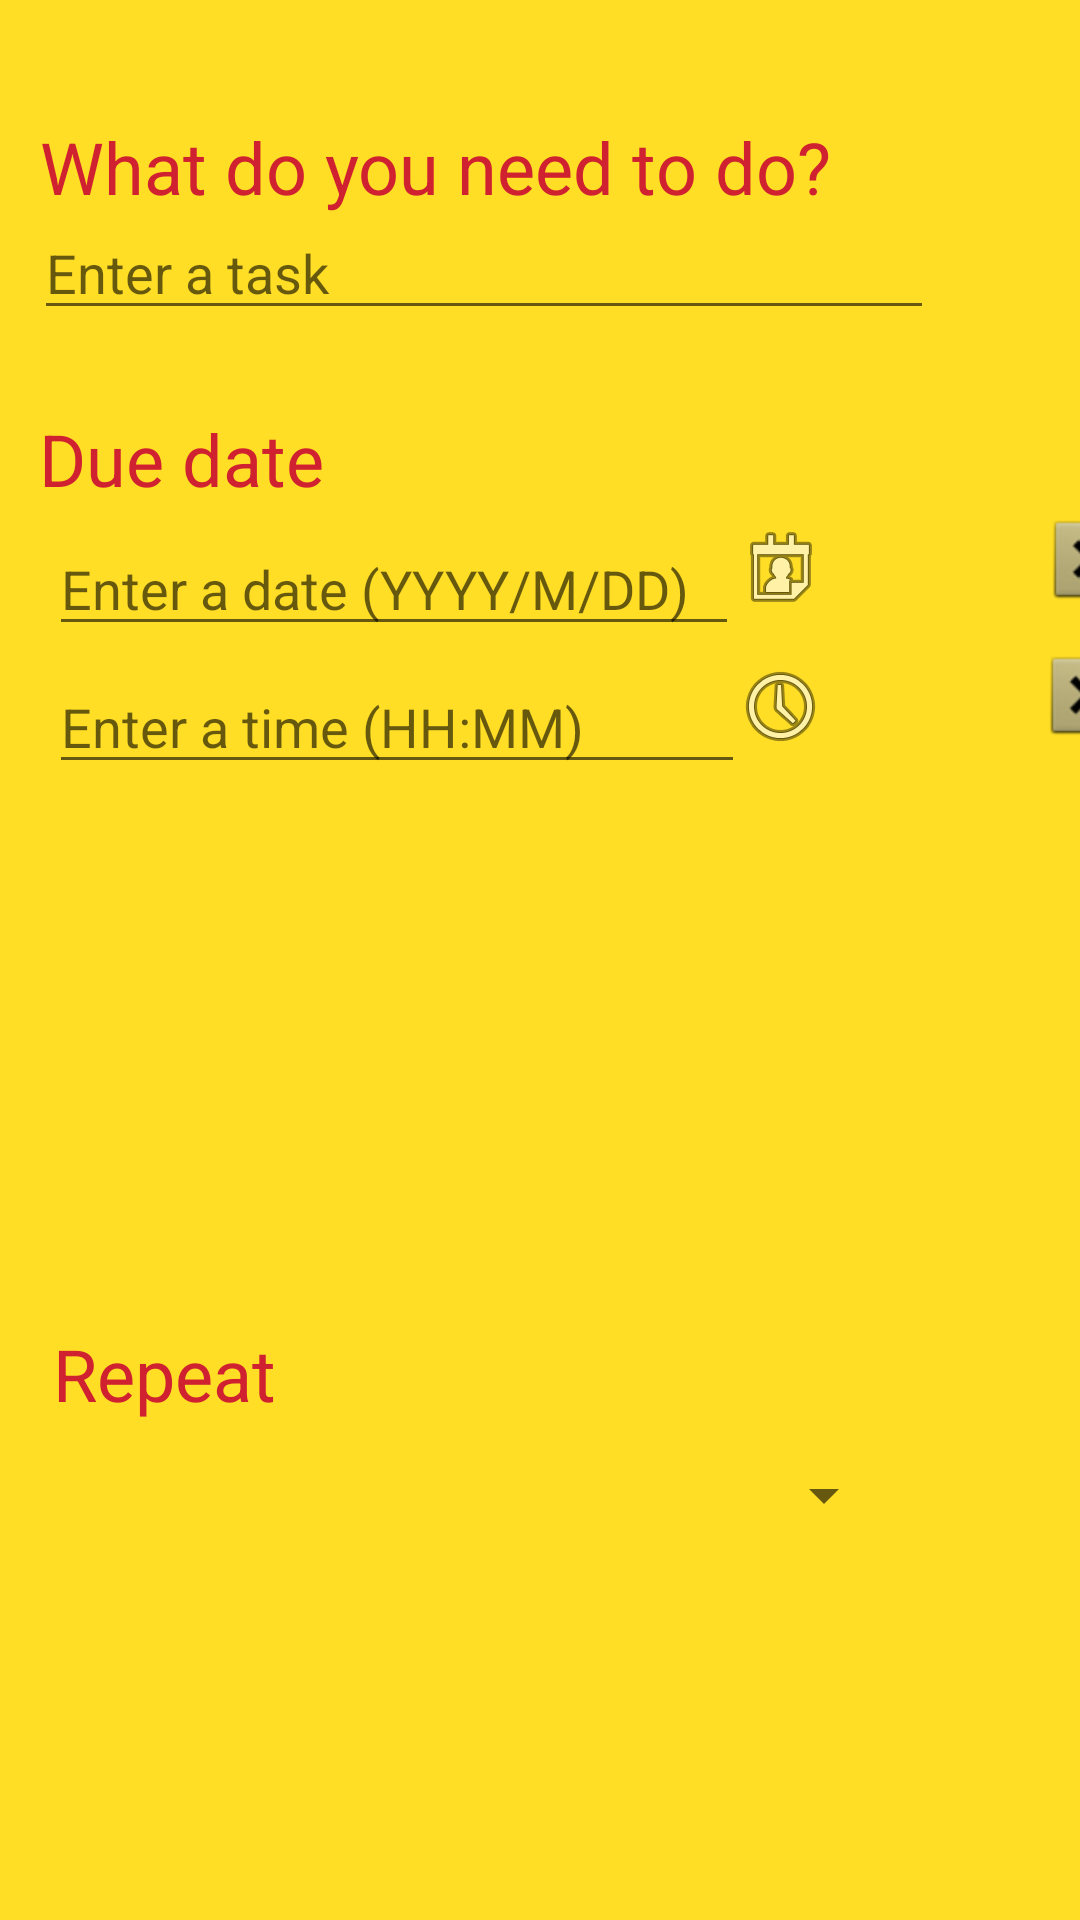

Where to tap for icons on this 1080w x 1920h app screen, as (x,y):
calendar: (781,567)
recent history: (780,706)
